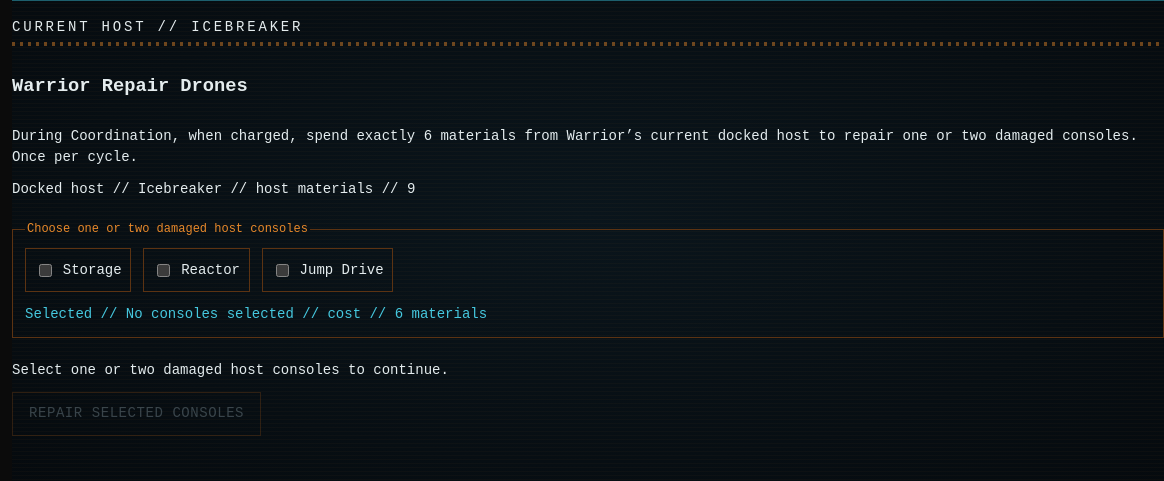
Scenario: preserves the selections but blocks retry when the stale repair already used this cycle
Click the checkbox labelled "Storage" at (45, 270), box [39,264,52,276]
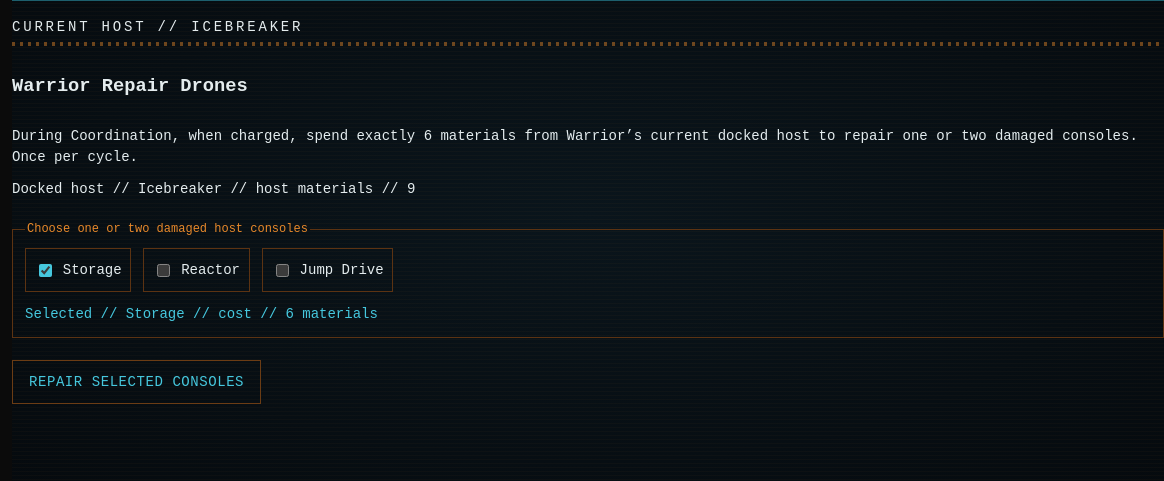
Click the checkbox labelled "Reactor" at (164, 270), box [157,264,170,276]
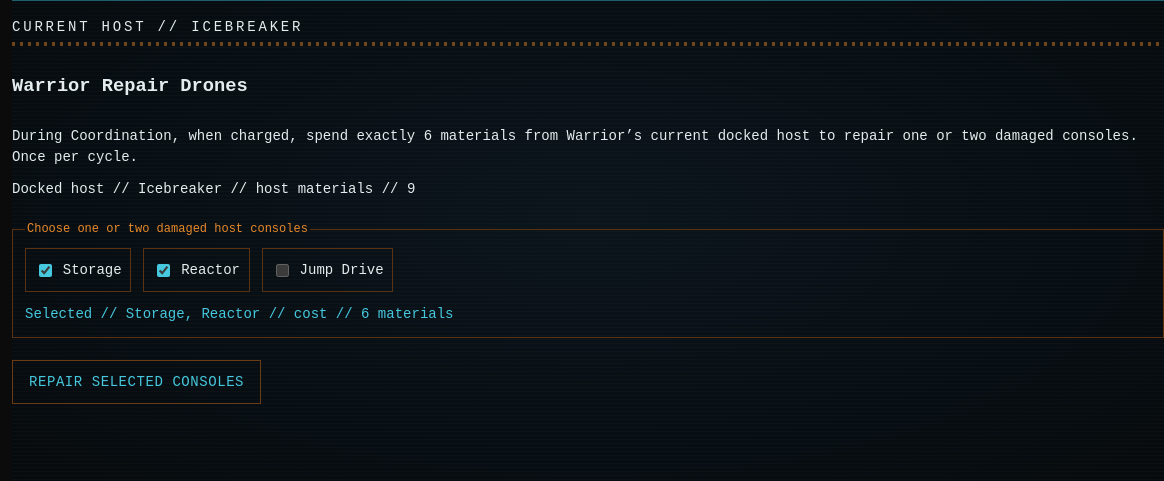
Click the button "Repair selected consoles" at (137, 382), box [12,360,261,404]
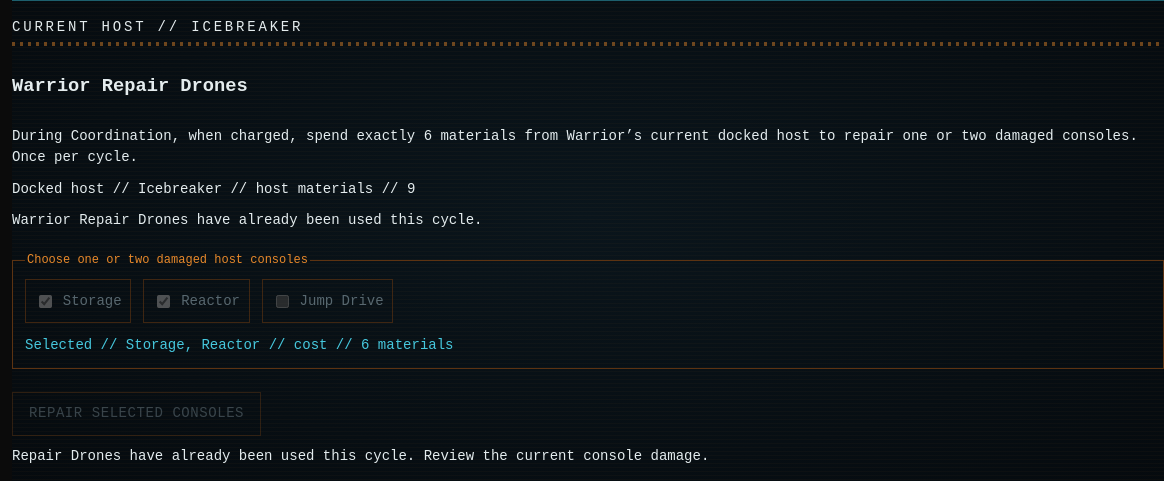
Expected: the checkbox labelled "Storage" is checked, [39,295,52,308]
Expected: the checkbox labelled "Reactor" is checked, [157,295,170,308]
Expected: the element "Warrior Repair Drones" shows "review the current console damage", [12,448,709,464]
